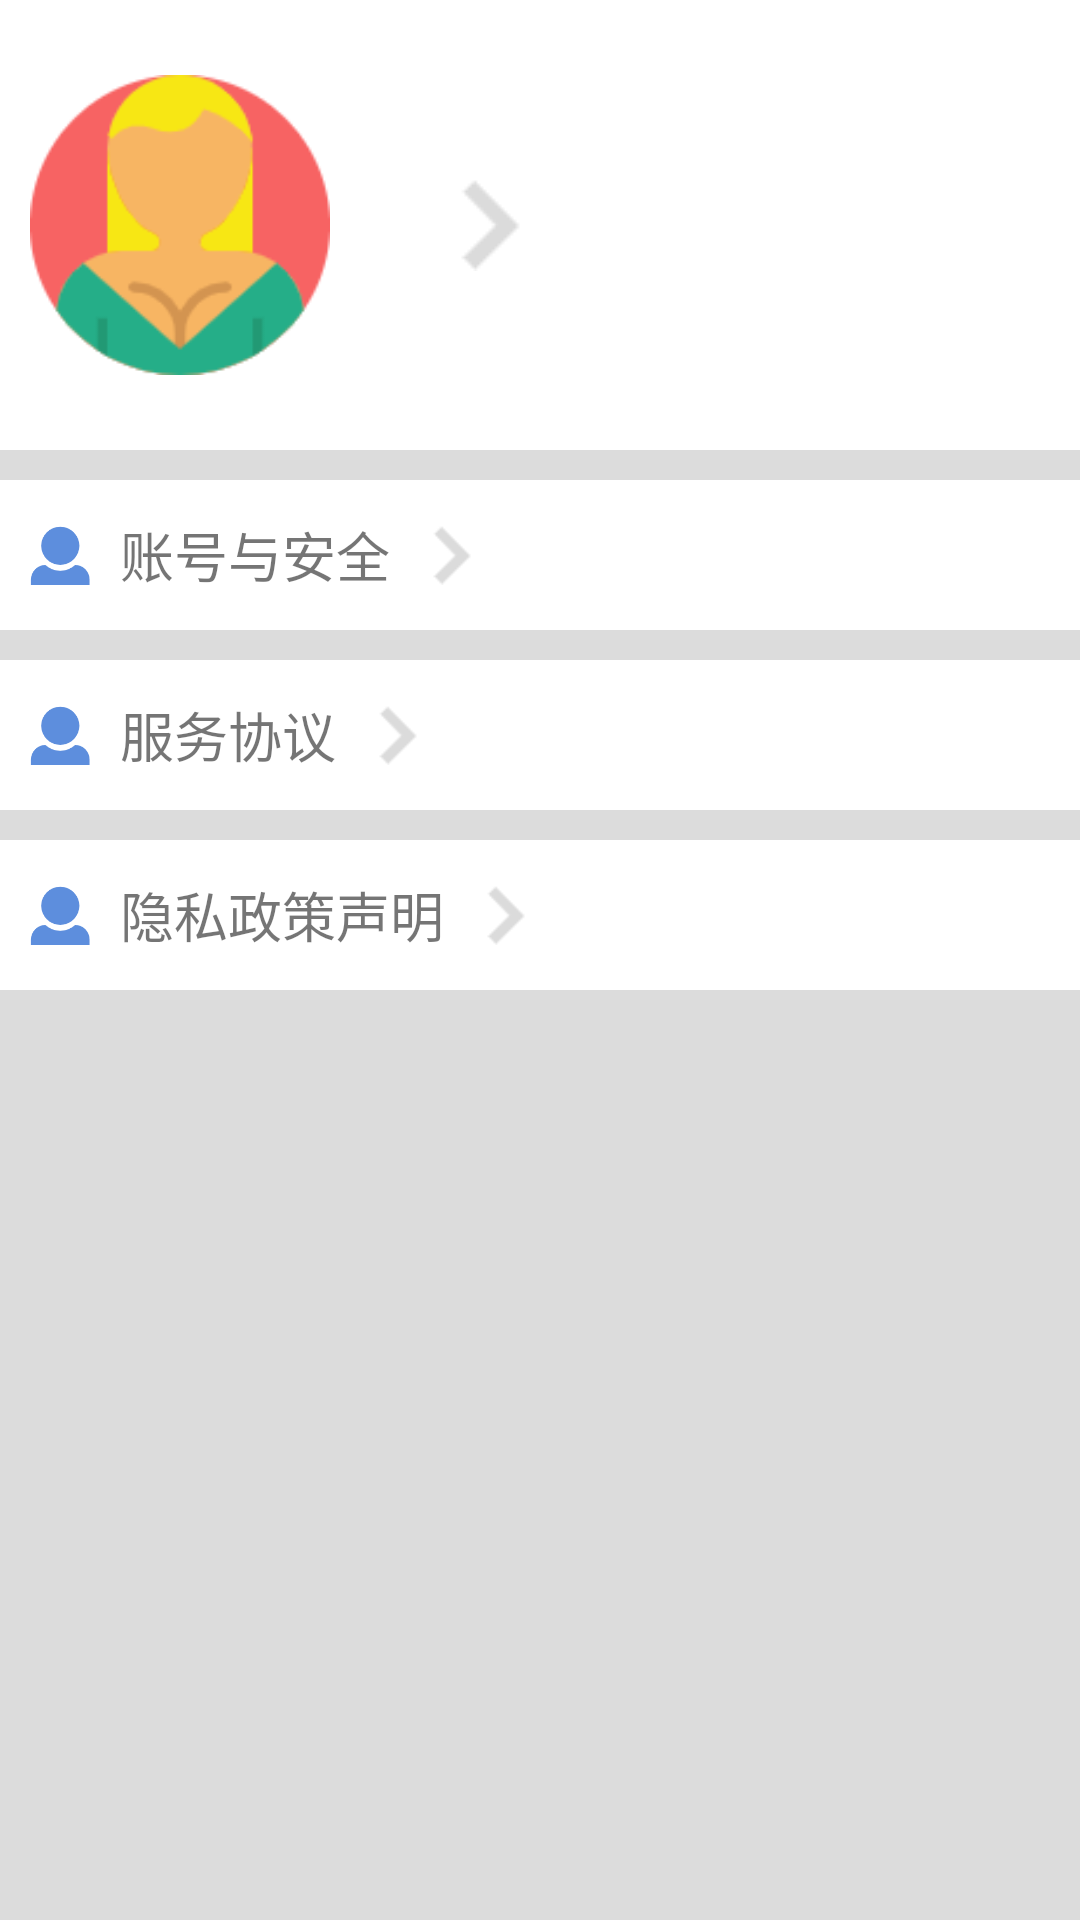

Point at icon controls on the screen. Image size 1080x1920, points as (x,y).
jump page: (490,225), (452,555), (398,735), (506,915)
